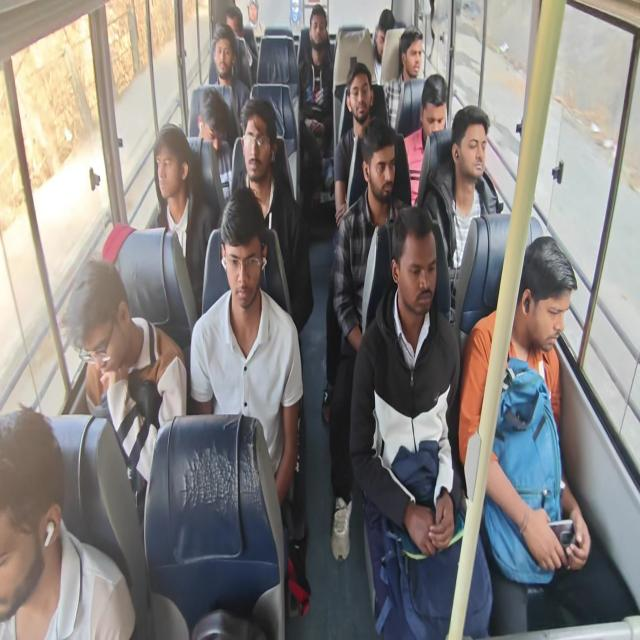person: (349, 206, 493, 638), (458, 234, 591, 588), (327, 117, 412, 561), (189, 187, 304, 507), (64, 256, 188, 514), (0, 405, 136, 639), (322, 62, 388, 424), (230, 97, 314, 334), (418, 104, 493, 322), (151, 123, 214, 316), (332, 62, 380, 228), (296, 4, 334, 194), (402, 73, 448, 206), (382, 25, 424, 133), (210, 24, 250, 137), (197, 85, 233, 201), (224, 4, 255, 88), (371, 8, 395, 85), (245, 0, 264, 36)
